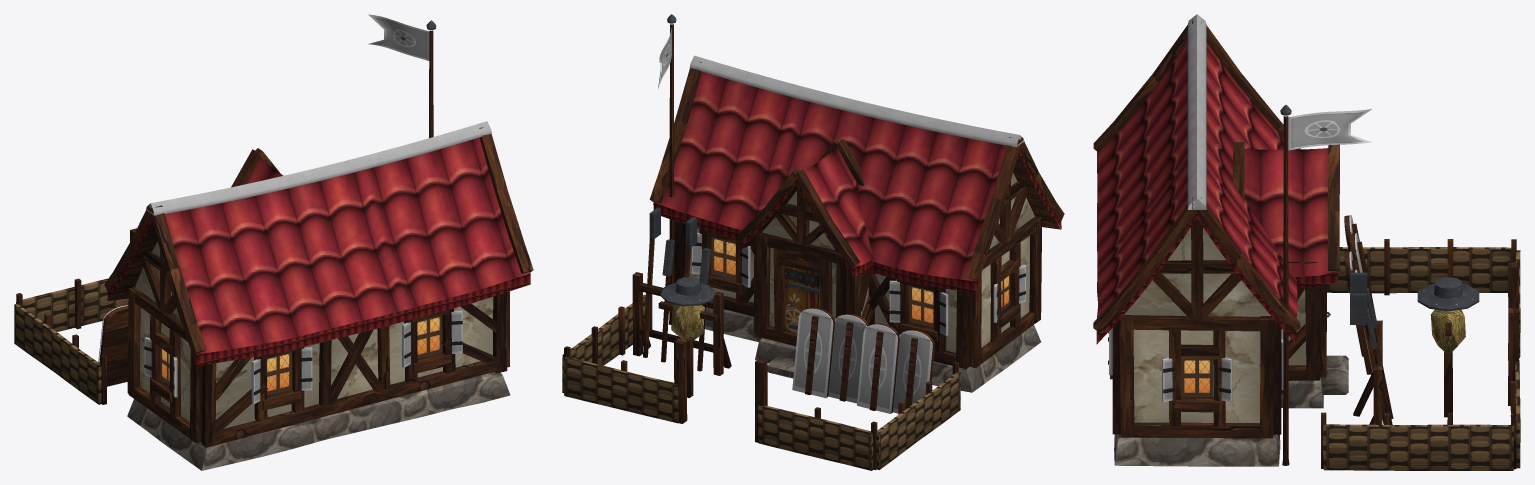
Rendered from kingdom_drill_yard.glb.
The picture shows the model from 3 angles, left to right: view 1: azimuth 30°, elevation 25°; view 2: azimuth 150°, elevation 25°; view 3: azimuth 270°, elevation 25°; orthographic projection. The views are drawn at different scales.
Visible parts, largest first — view 1: kingdom_drill_yard; view 2: kingdom_drill_yard; view 3: kingdom_drill_yard.
Part boxes in pixels (x1,y1,x2,y2): kingdom_drill_yard: (14, 14, 533, 470); kingdom_drill_yard: (562, 14, 1064, 470); kingdom_drill_yard: (1093, 14, 1520, 470).
Bounding box in the file's own units: 4.04 × 3.67 × 3.94.
Materials: 3 (3 with a texture image).
